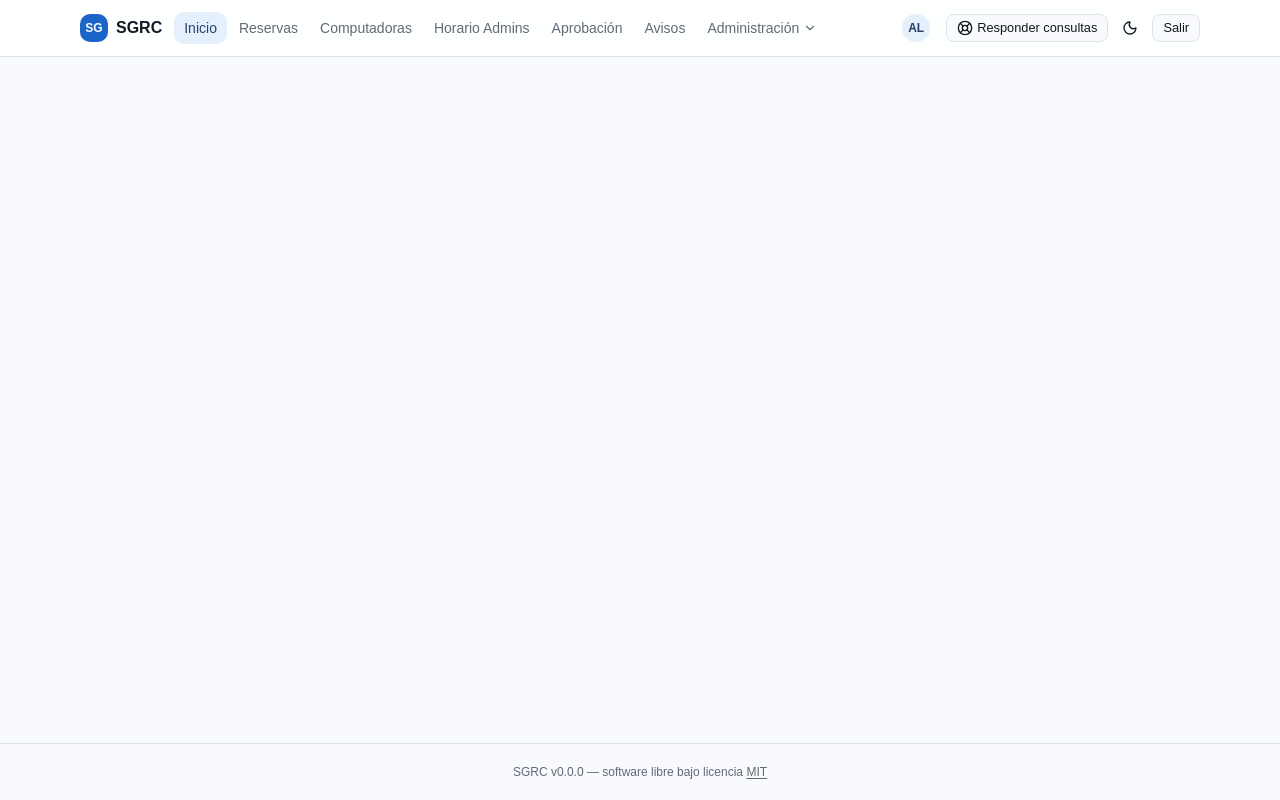
it: AppLayout › Escape devuelve el foco al disparador si estaba dentro de Administración
The image size is (1280, 800).
Click the button "Administración" at x=762, y=28, box x1=697 y1=12 x2=827 y2=44
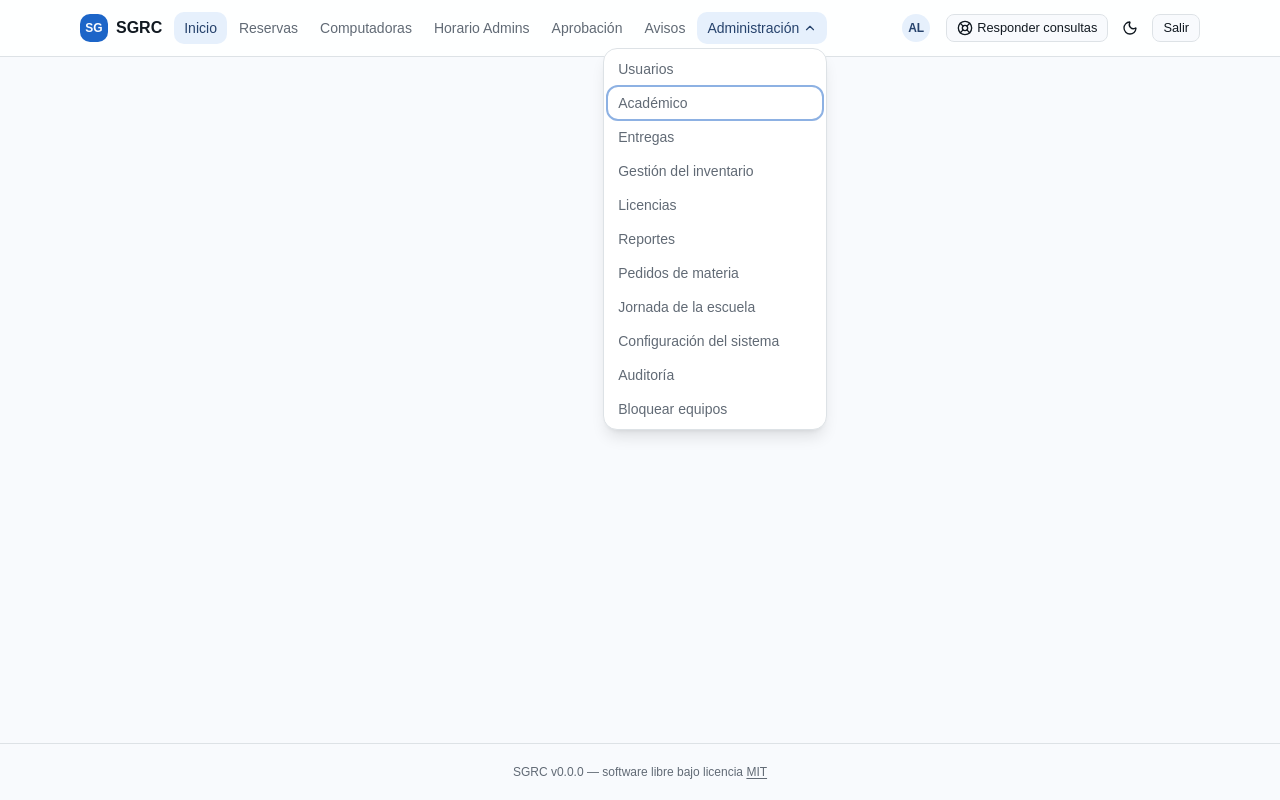
Press Escape
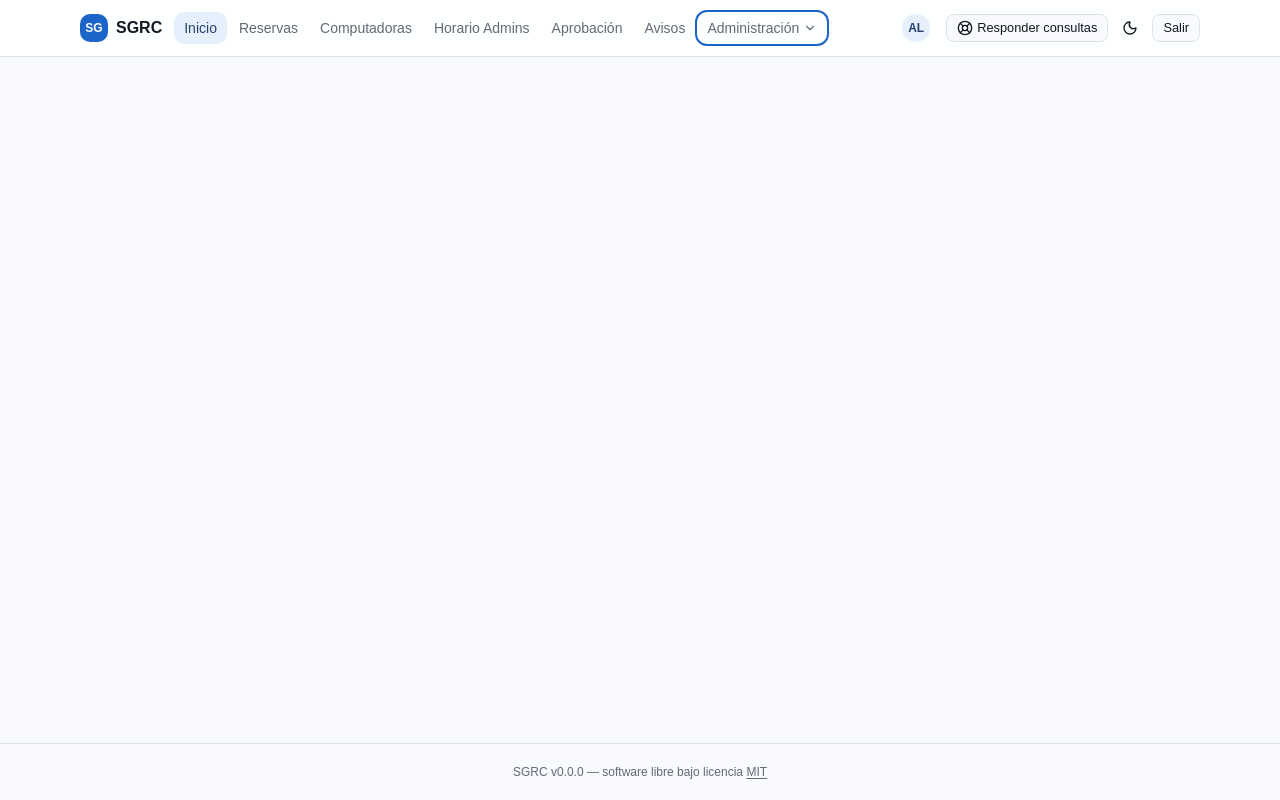
Expected: the button "Administración" is collapsed, x1=697 y1=12 x2=827 y2=44
